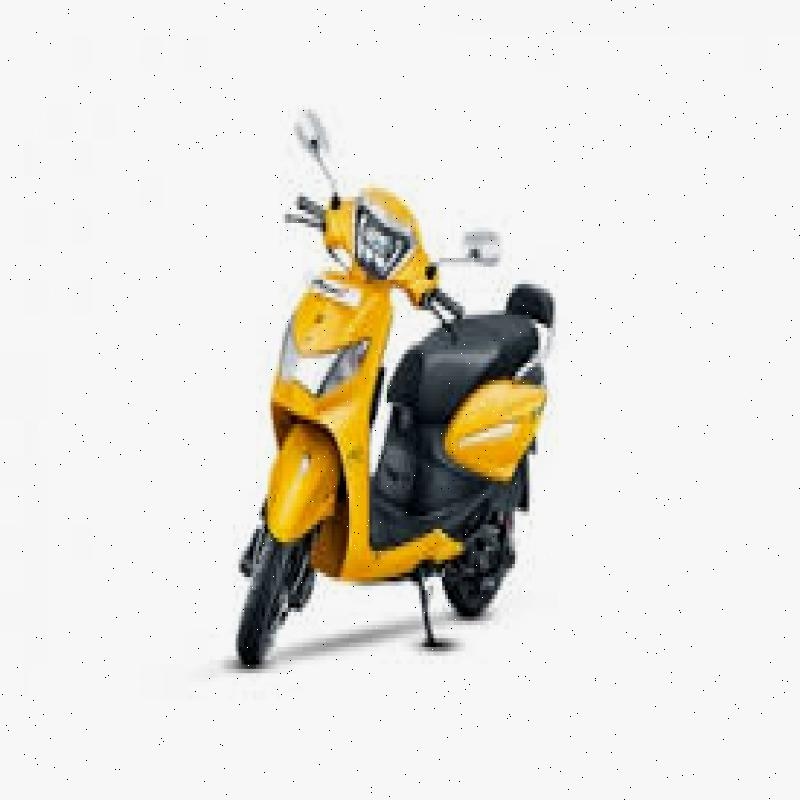bike: (216, 84, 566, 713)
